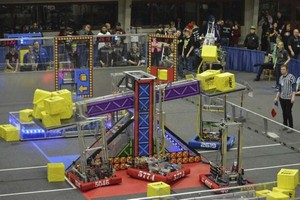cube: (278, 168, 299, 188), (146, 182, 169, 199), (213, 73, 235, 90), (46, 163, 65, 181), (198, 74, 216, 91), (2, 127, 20, 143), (42, 98, 64, 111), (202, 46, 220, 61)
